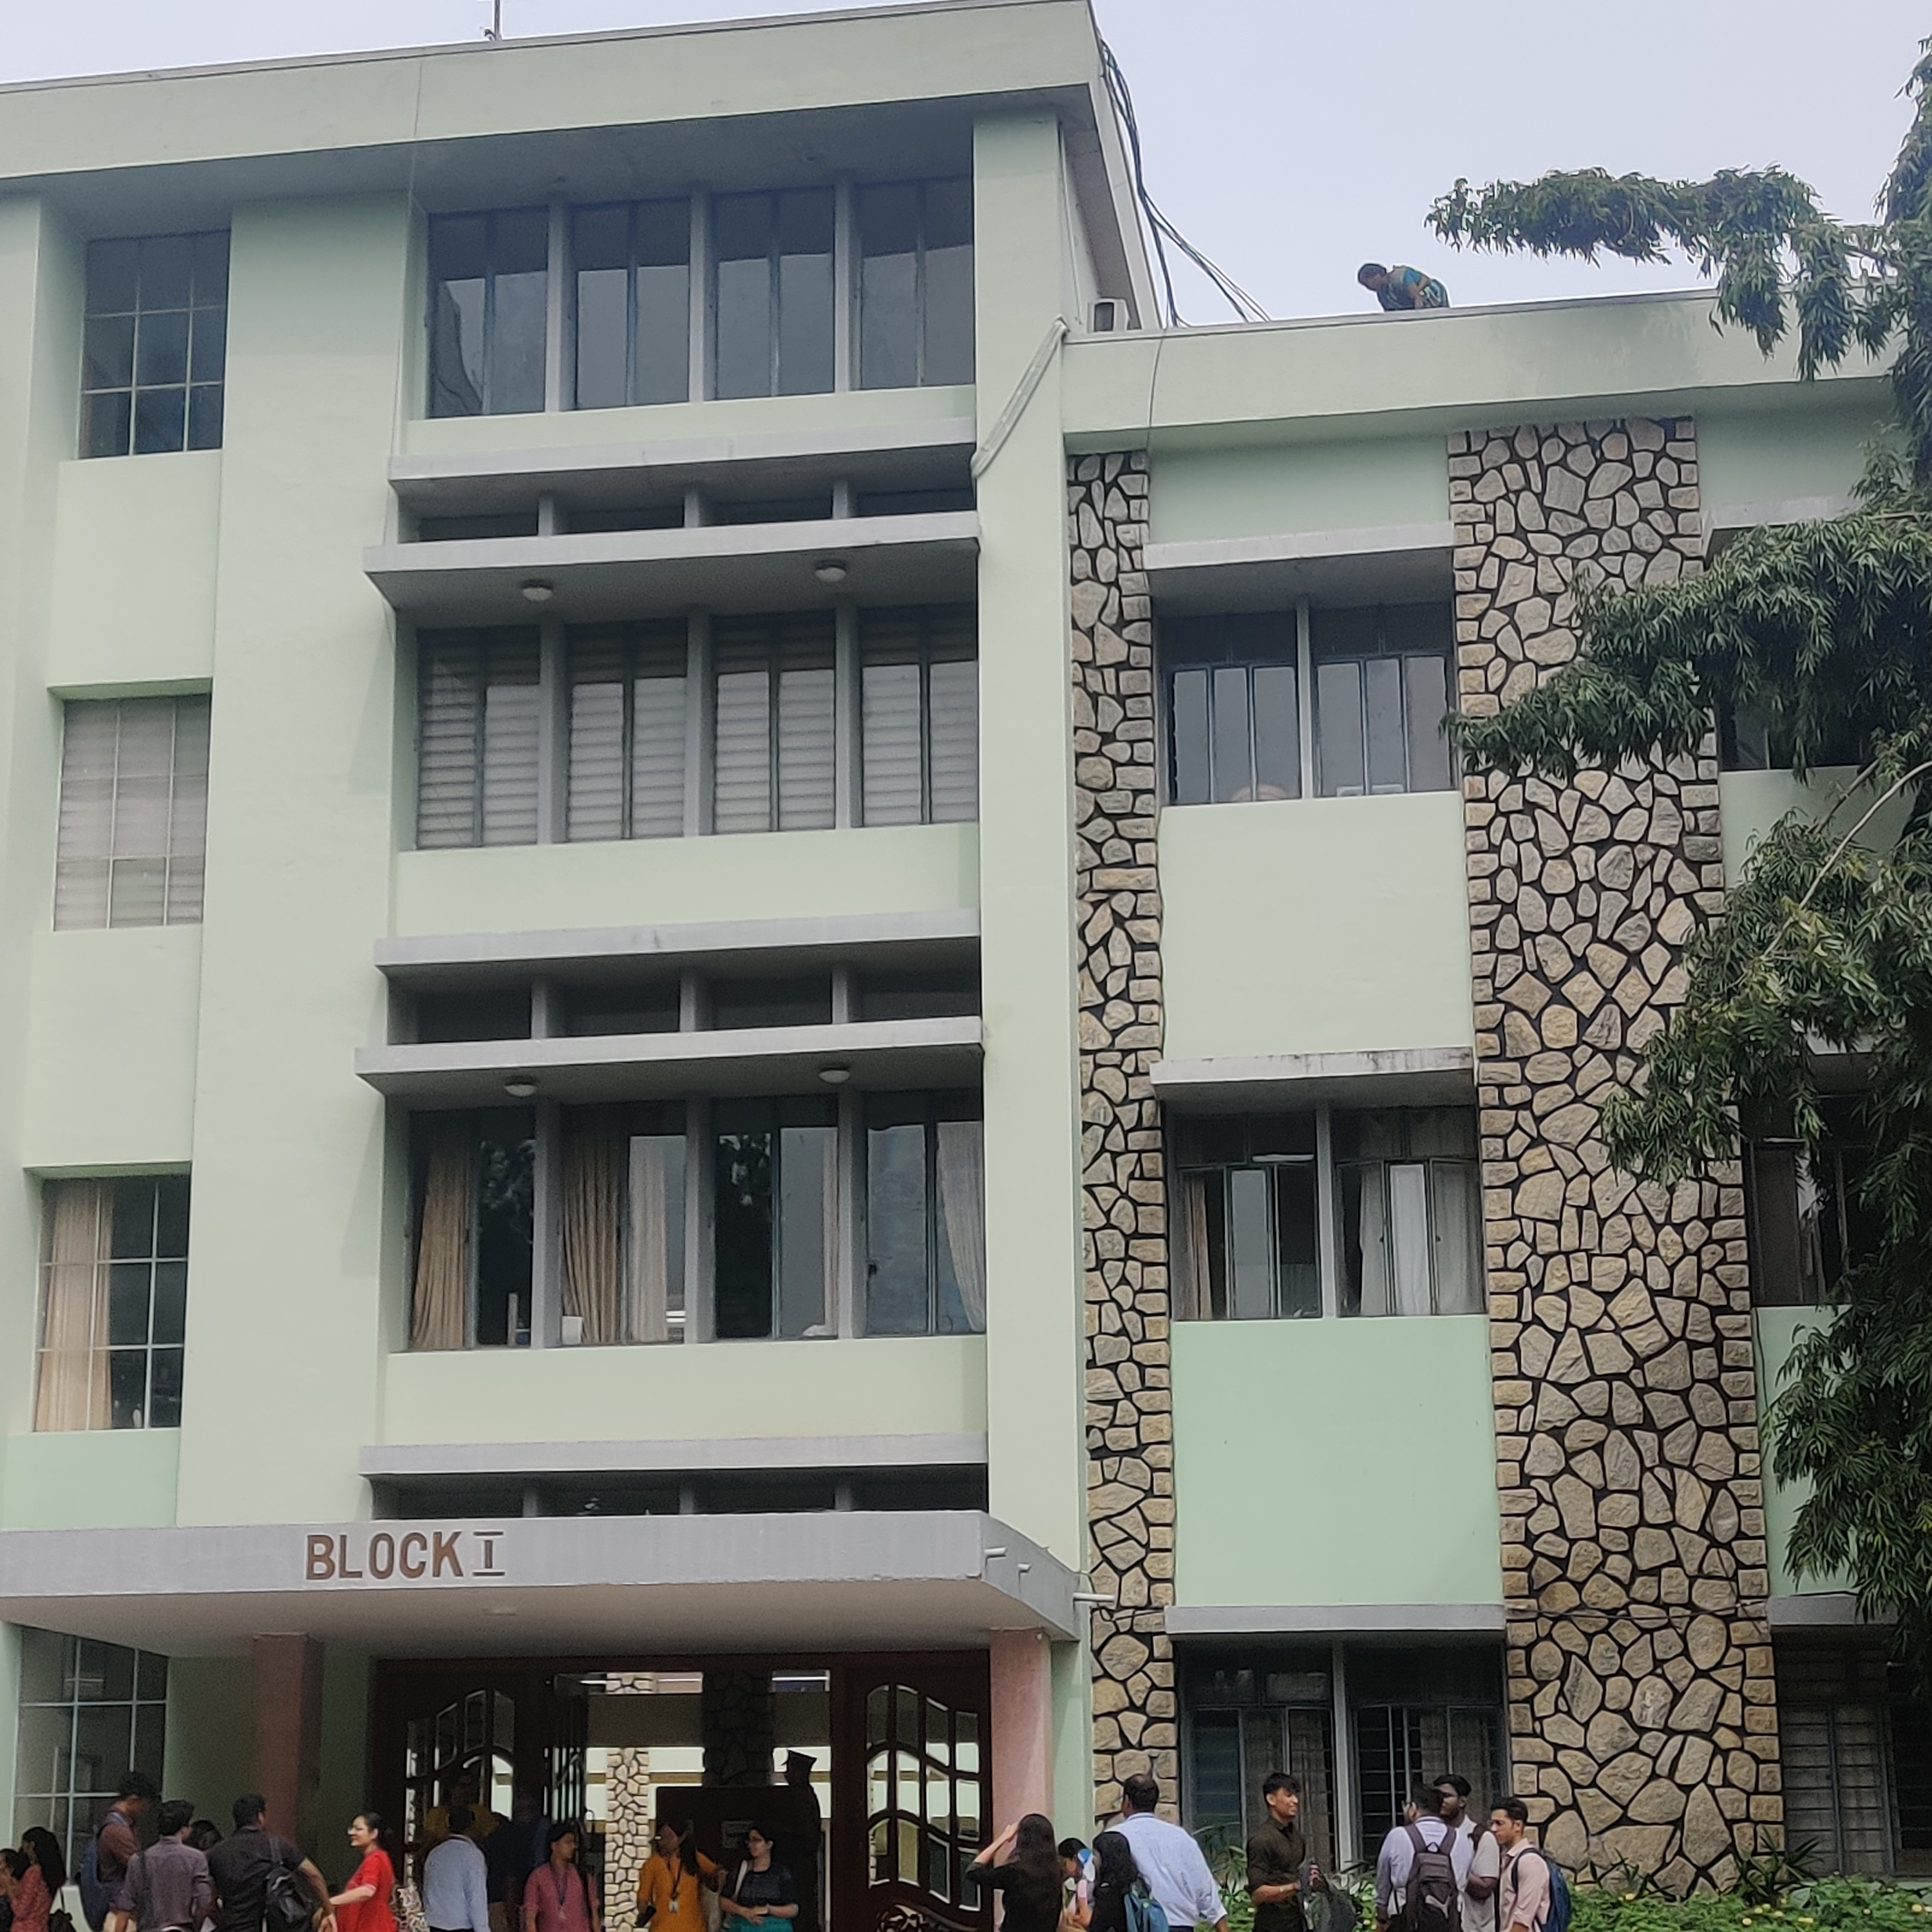Block 1: (7, 57, 1831, 1803)
